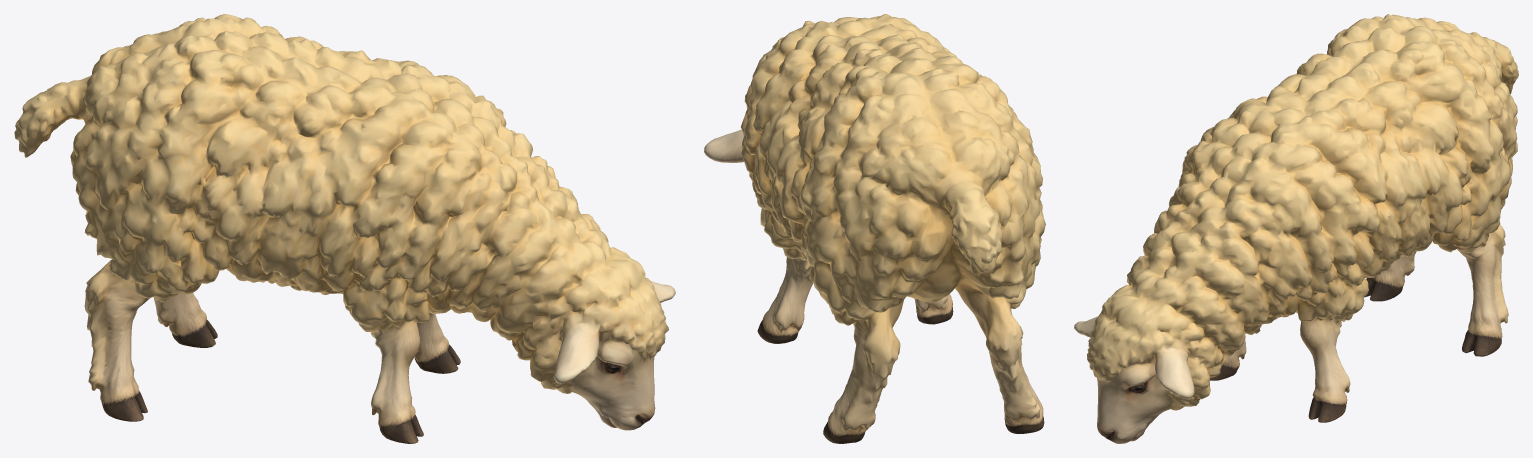
Rendered from sheep-tripo.glb.
The picture shows the model from 3 angles, left to right: view 1: azimuth 30°, elevation 25°; view 2: azimuth 150°, elevation 25°; view 3: azimuth 270°, elevation 25°; orthographic projection. The views are drawn at different scales.
Visible parts, largest first — view 1: tripo_node_c2955b29-8c38-4361-aa8c-414697c5e1ec; view 2: tripo_node_c2955b29-8c38-4361-aa8c-414697c5e1ec; view 3: tripo_node_c2955b29-8c38-4361-aa8c-414697c5e1ec.
Boxes of the visible parts, box(x1,y1,x2,y2) form: tripo_node_c2955b29-8c38-4361-aa8c-414697c5e1ec: box(14, 14, 675, 443); tripo_node_c2955b29-8c38-4361-aa8c-414697c5e1ec: box(704, 14, 1045, 443); tripo_node_c2955b29-8c38-4361-aa8c-414697c5e1ec: box(1074, 14, 1518, 443).
Size of the model in its own units: 0.9797 by 0.693 by 0.8954.
Materials: 1 (1 with a texture image).
